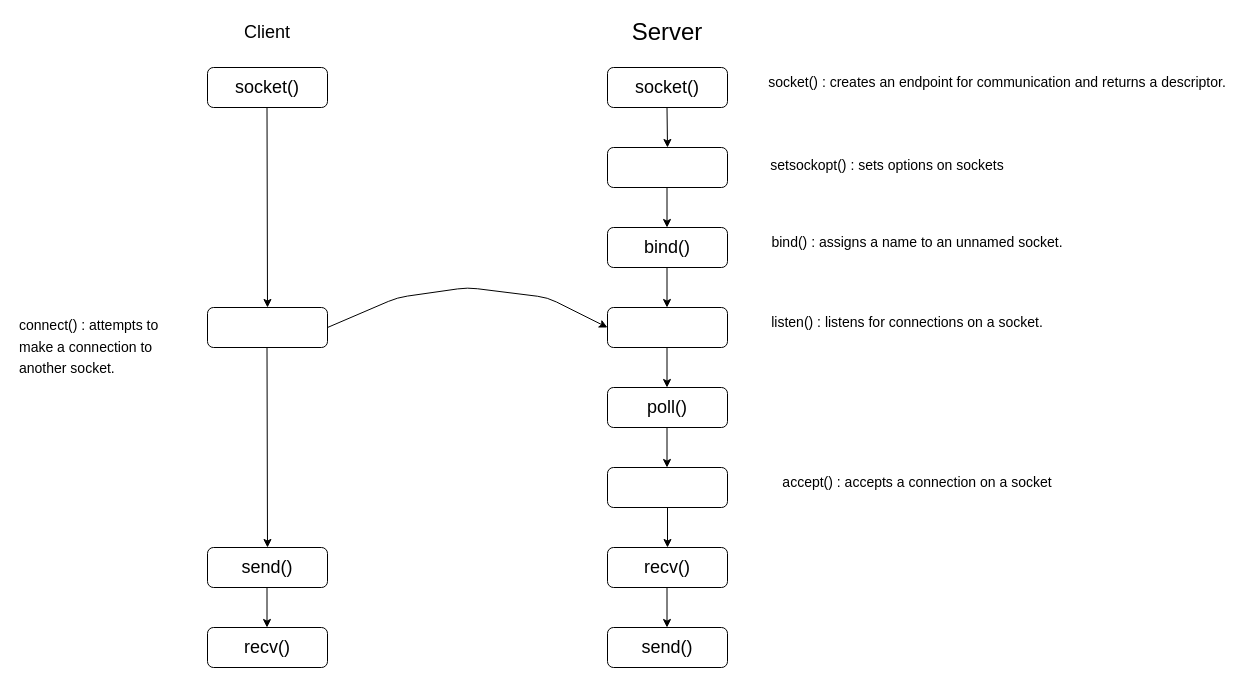
The diagram is 1244 pixels wide and 685 high, and some of its shapes have lost their labels. Here are the shapes that lost their labels. From the top down, the centre of each, then its label:
point (667, 167): setsockopt()
point (267, 327): connect()
point (667, 327): listen()
point (667, 487): accept()
